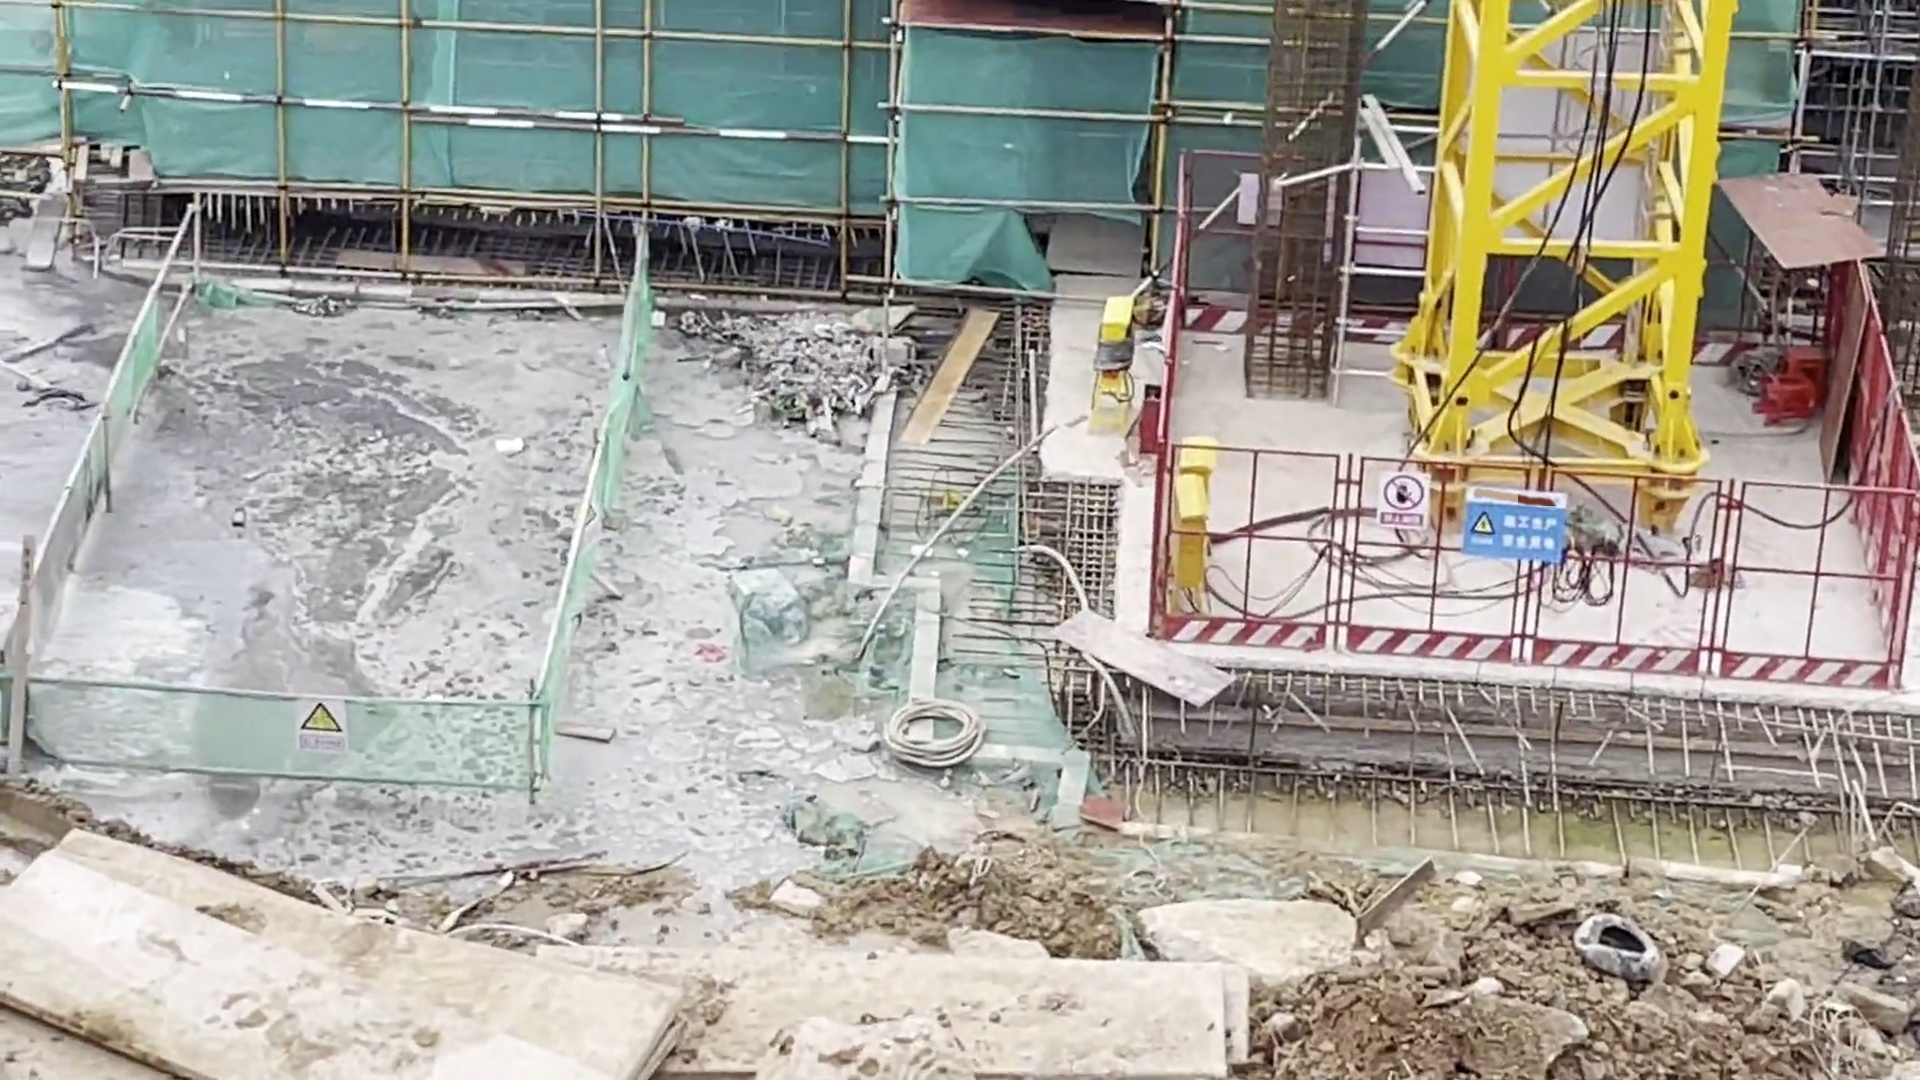ebox: (1168, 443, 1215, 603), (1087, 295, 1130, 411)
fence: (1153, 440, 1920, 688), (1847, 320, 1909, 647)
slogan: (1462, 485, 1565, 563), (1378, 468, 1433, 526), (295, 699, 344, 758)
